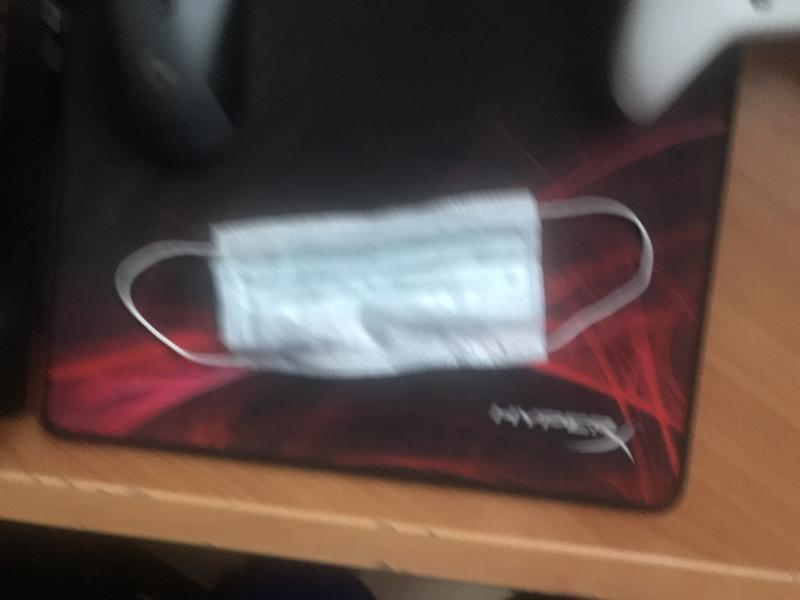medical_mask: (117, 198, 652, 376)
